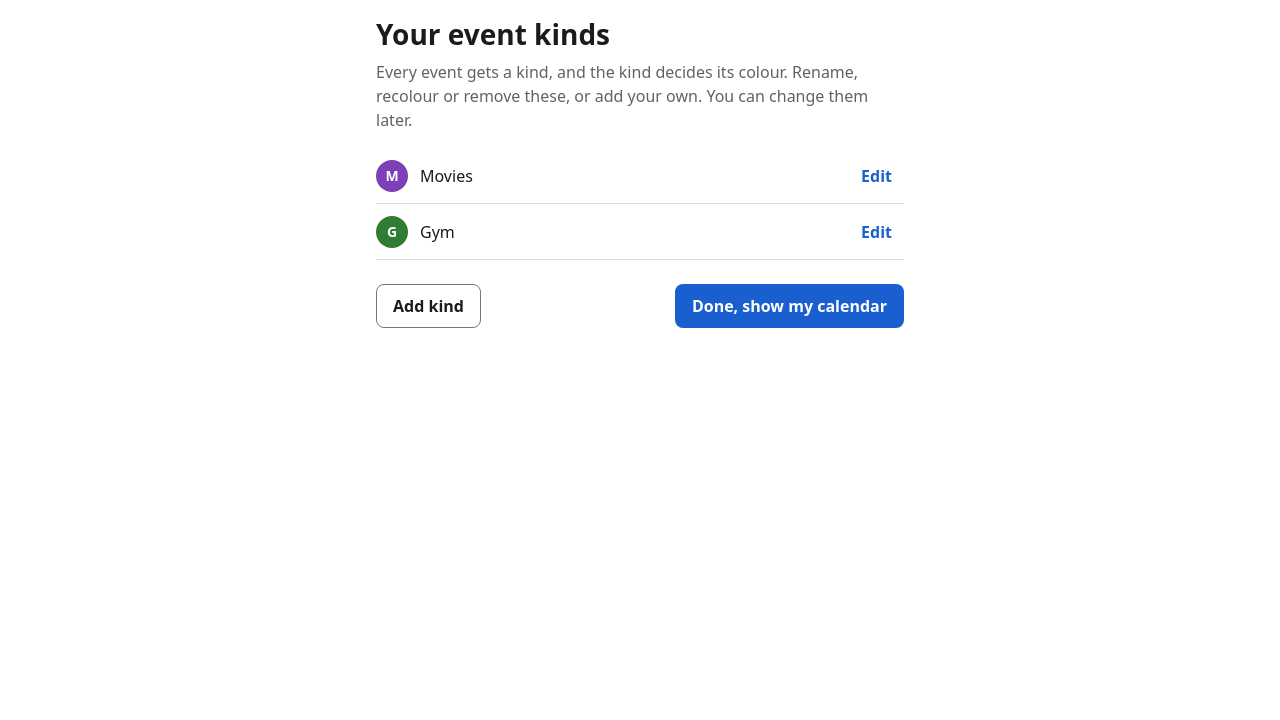
edits made in the walkthrough reach the repository and the list (AC-2, AC-5, AC-6) › a rename is sent with the kind's own updatedAt, and the row then shows the new name (AC-2)
The image size is (1280, 720).
Click the button with aria-label "Edit Gym".
click(877, 232)  # box [849,210,904,254]
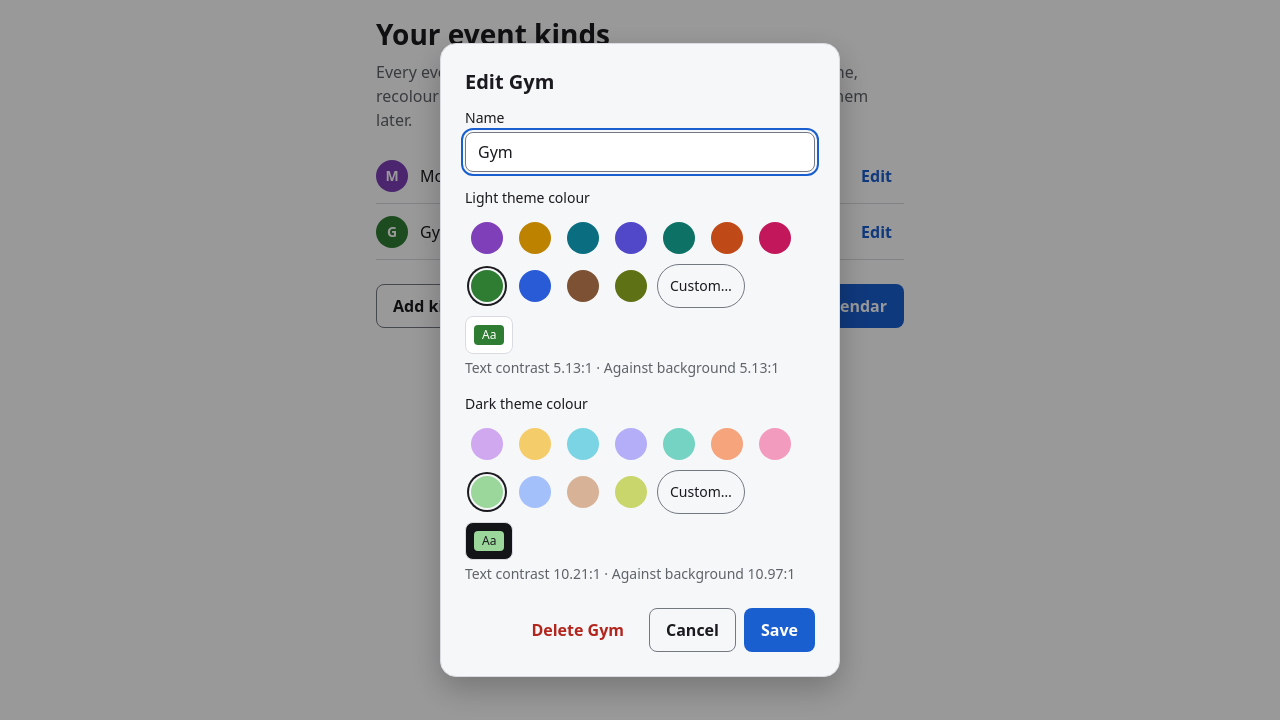
Replace the text in the field labelled "Name" with "Workouts" at [640, 152], box [465,132,815,172]
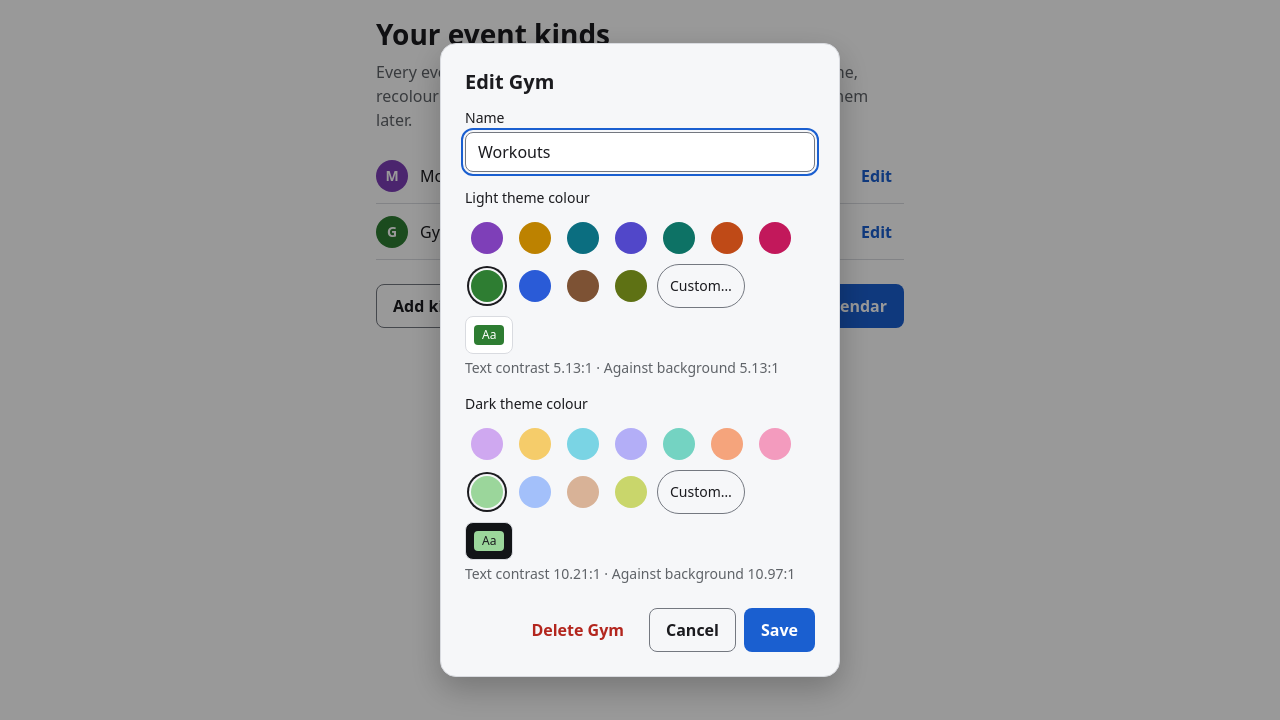
Click the button "Save".
click(780, 630)  # box [744,608,815,652]
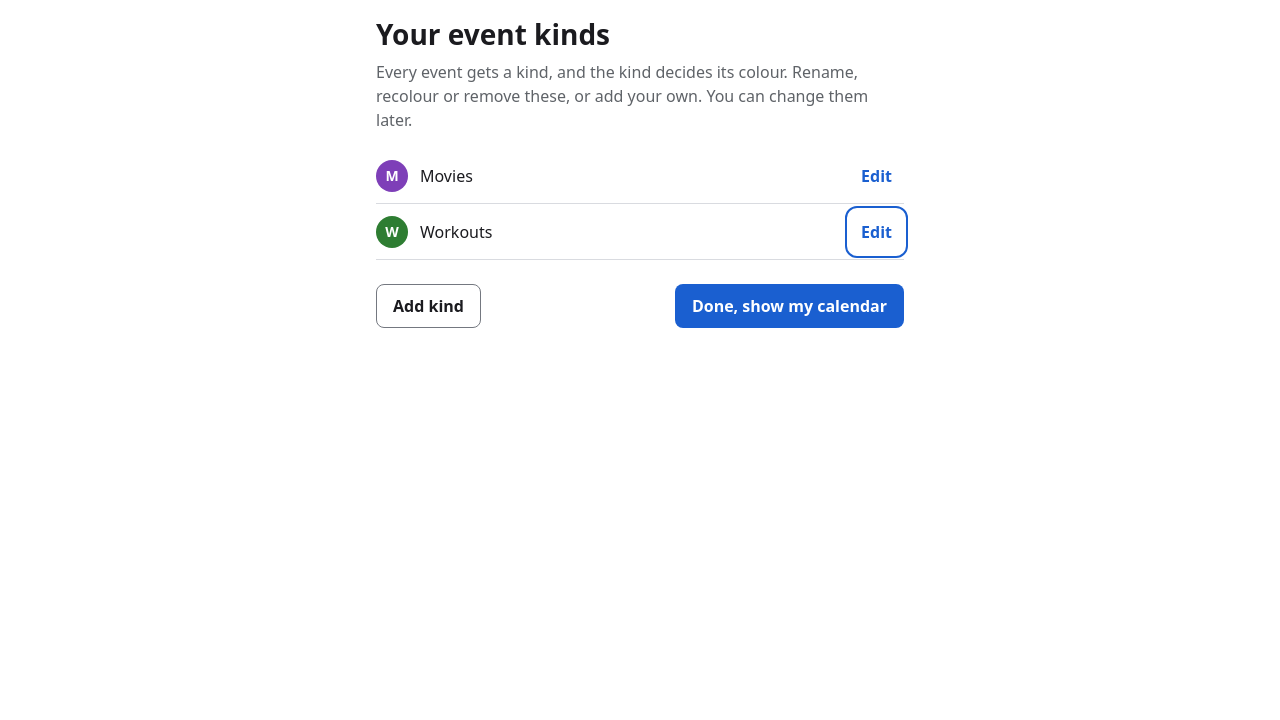
Expected: the button with aria-label "Edit Workouts" is shown, [849,210,904,254]
Expected: the heading "Edit Gym" is gone
